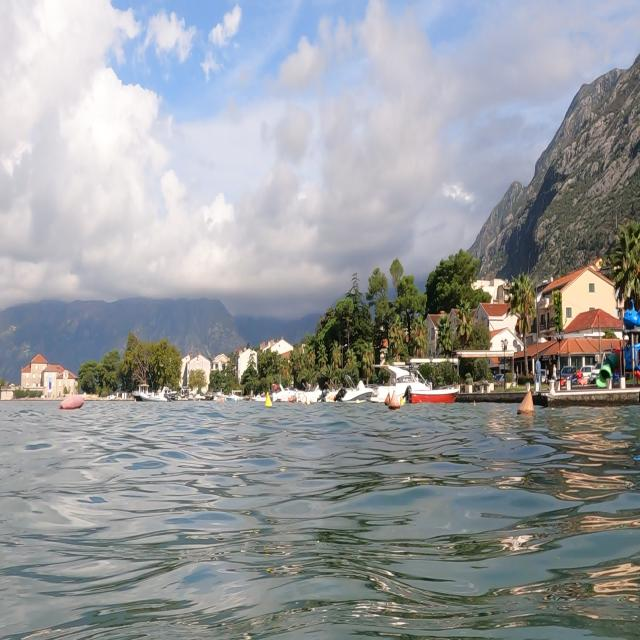boat: (372, 352, 464, 416), (296, 378, 379, 424), (130, 378, 172, 411)
buoy: (56, 384, 93, 422), (511, 383, 540, 421), (388, 390, 403, 417), (262, 391, 275, 410)
